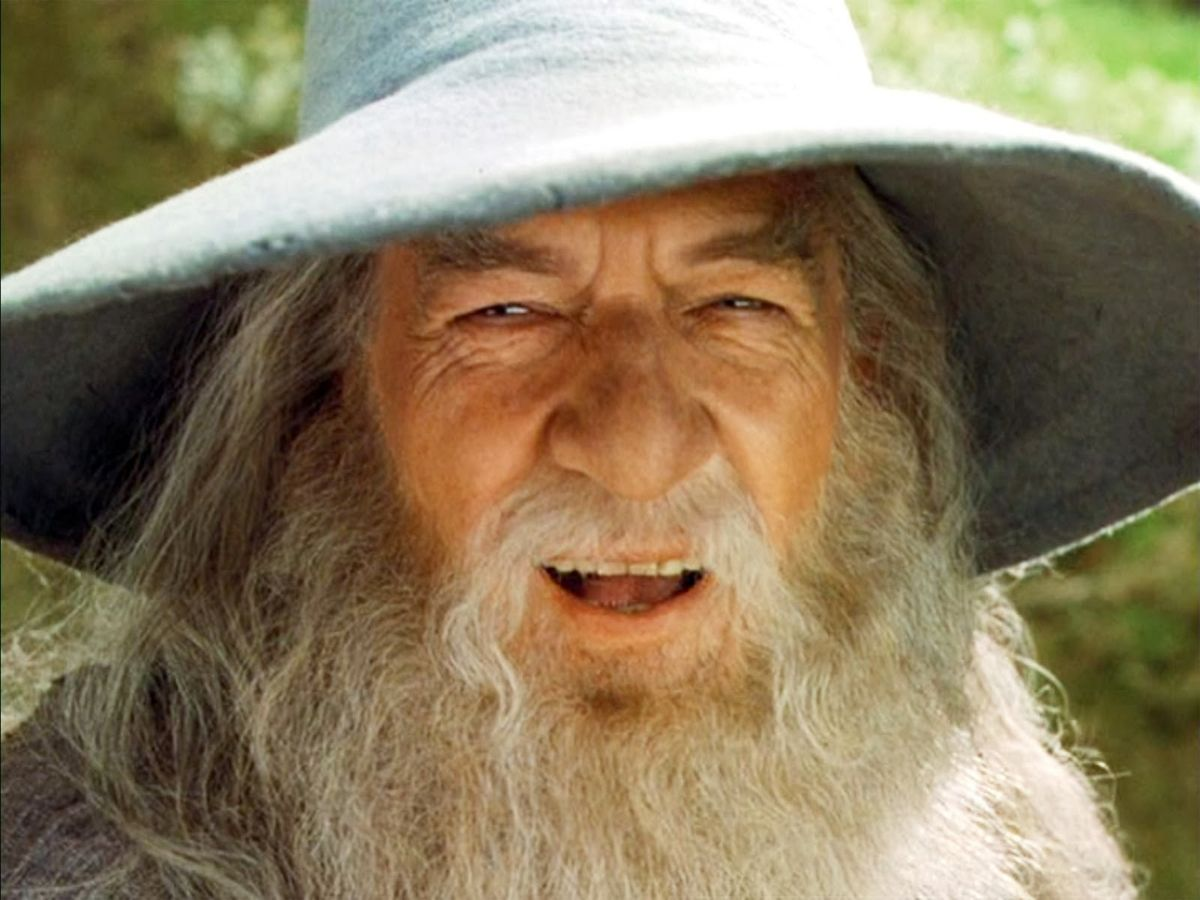gandalf grey: (92, 95, 1143, 852)
